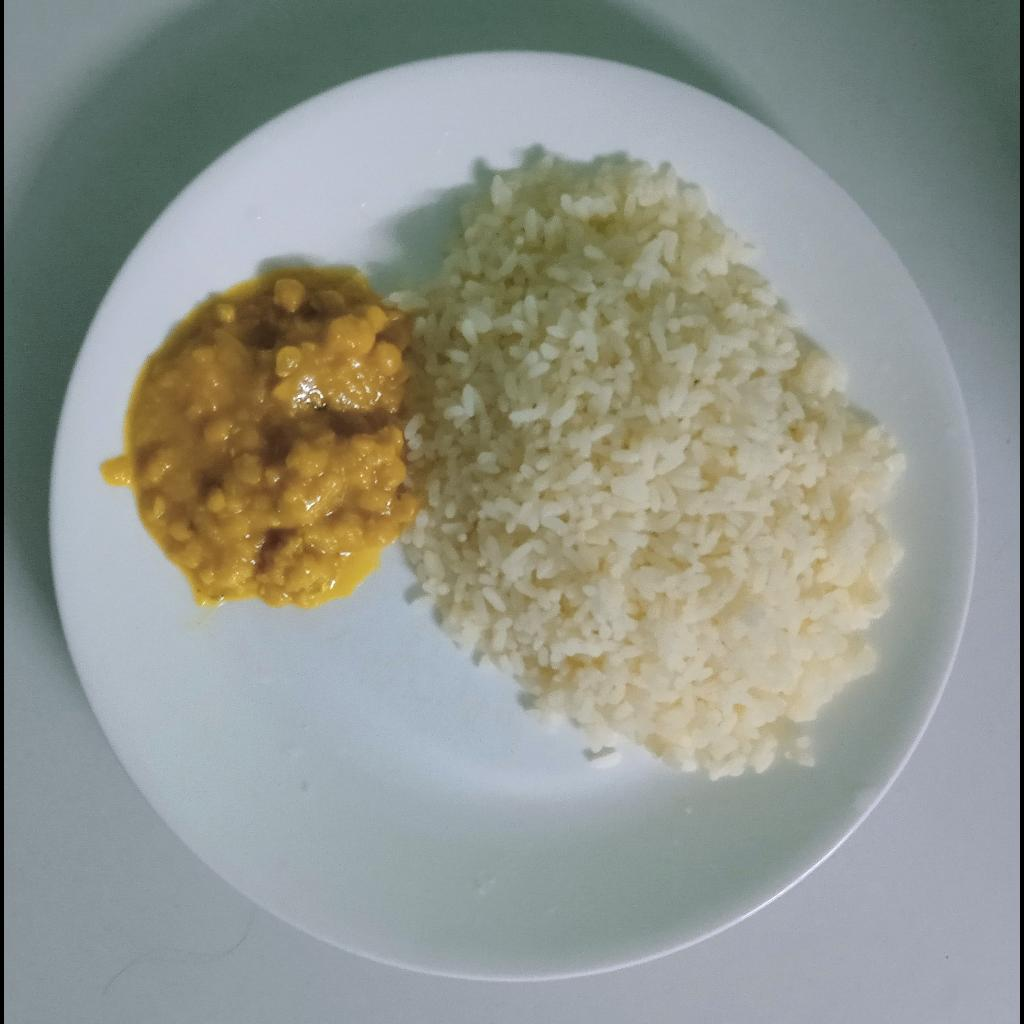daal: (126, 266, 416, 607)
rice: (391, 150, 905, 778)
